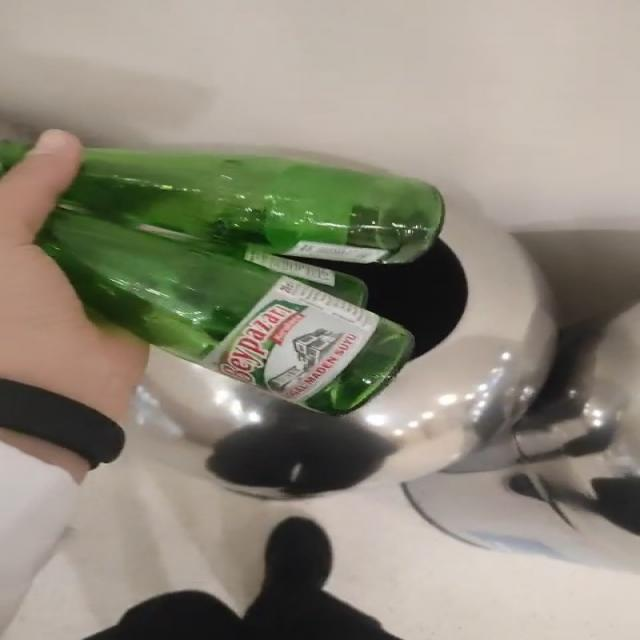glass: (39, 149, 445, 416)
